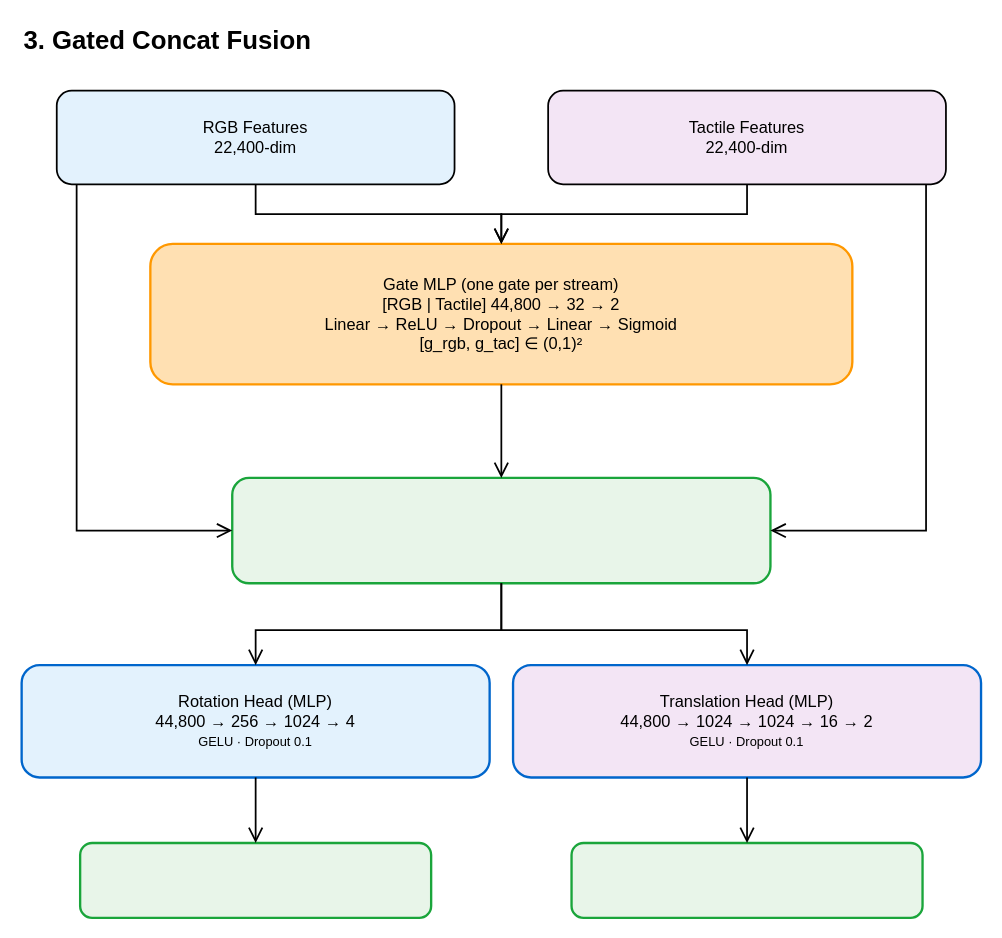
This 1002x938 diagram has some shape labels left out. Here are the shapes that lost their labels. From the top down, the centre of each, then its label:
At pixel 500 530: "[g_rgb·RGB | g_tac·Tactile] 44,800-dim".
At pixel 255 879: "Quaternion q L2-normalised, ℝ⁴".
At pixel 746 879: "Translation Vector [ y , z ] x fixed to 0".
